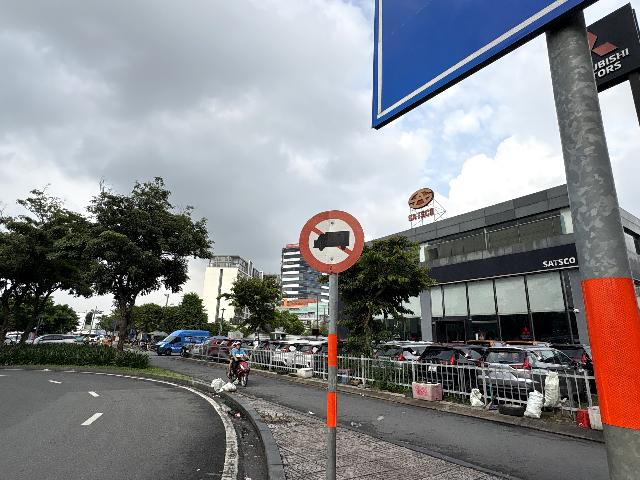cam-xe-tai: (298, 210, 365, 273)
